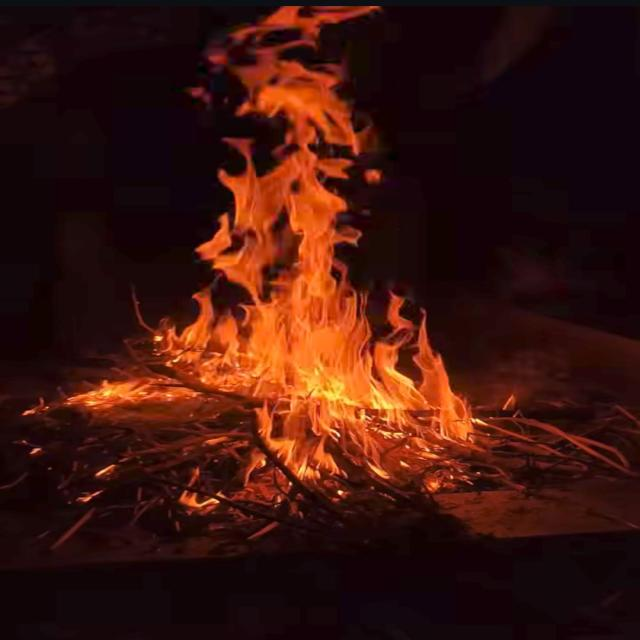fire: (22, 286, 517, 514), (194, 0, 380, 285)
